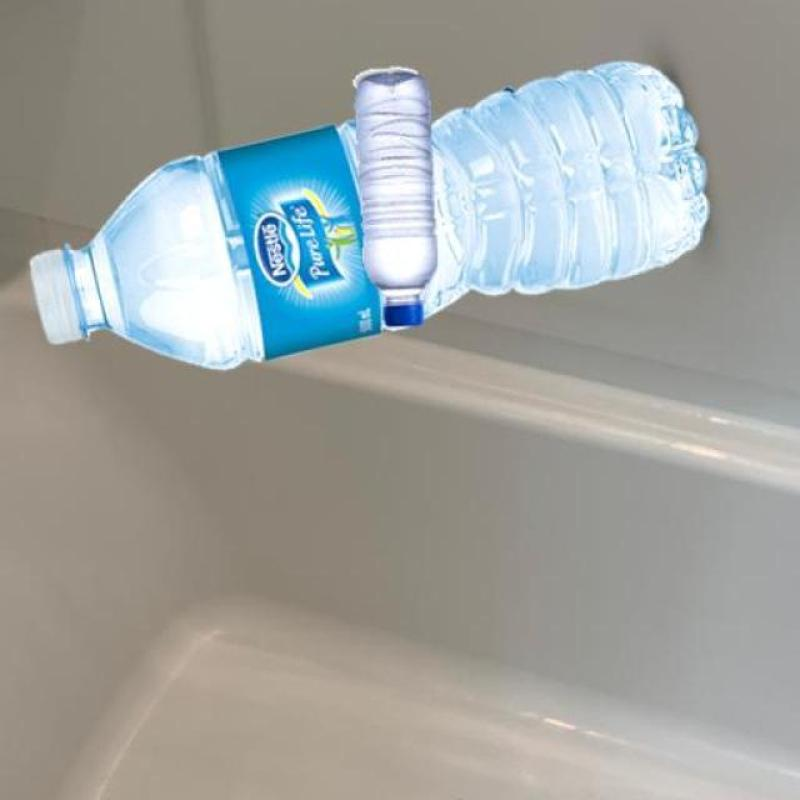botella: (29, 63, 708, 374), (353, 71, 441, 331)
